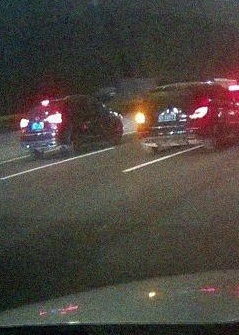L_light: (137, 110, 146, 124), (19, 117, 29, 128)
R_light: (189, 105, 209, 119), (46, 113, 62, 124)
T_light: (171, 86, 185, 89), (41, 100, 49, 105)
night-brake: (18, 97, 68, 159)
night-left: (135, 82, 212, 152)
